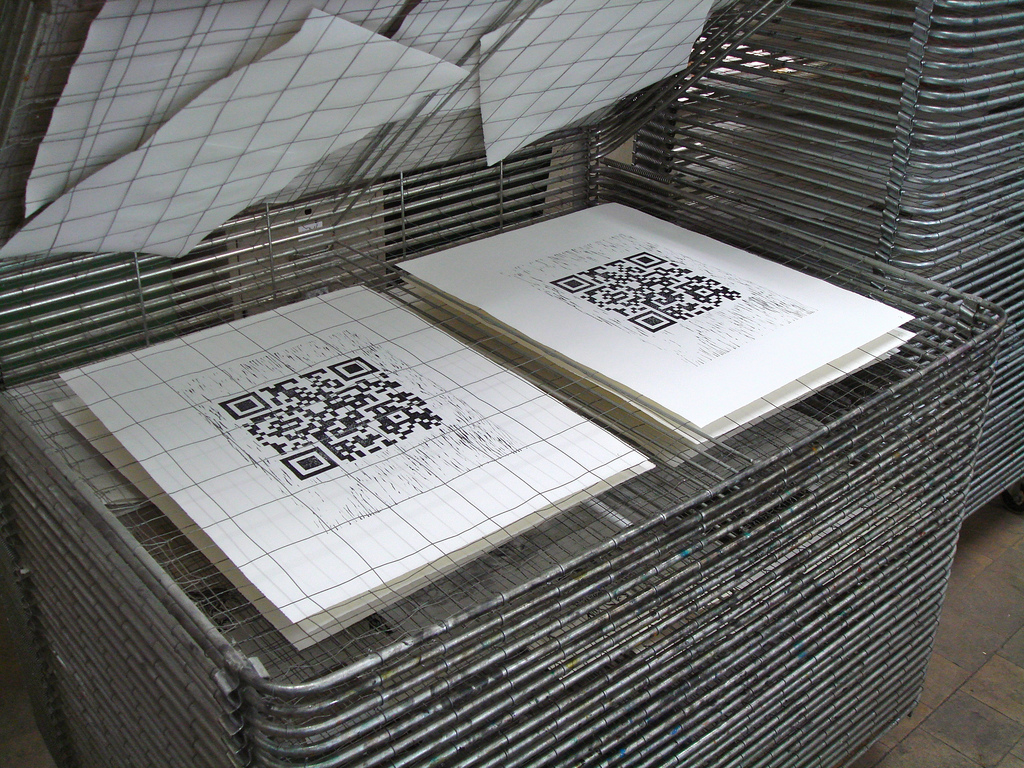QR-CODE: (217, 356, 449, 480), (549, 251, 746, 333)
